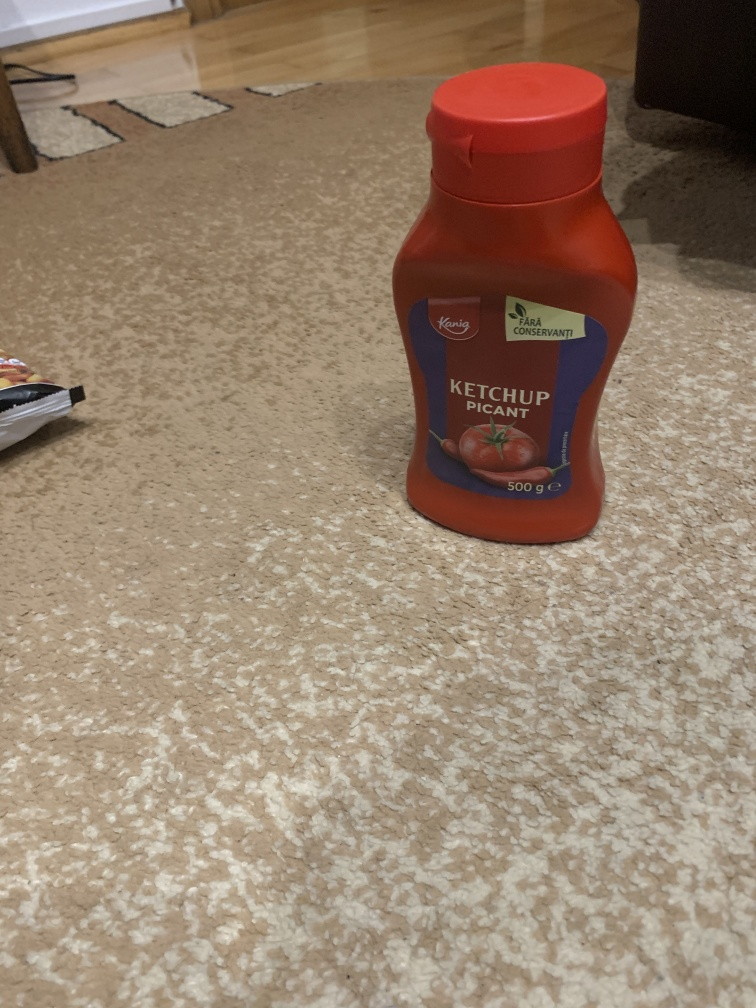ketchup: (387, 60, 643, 547)
